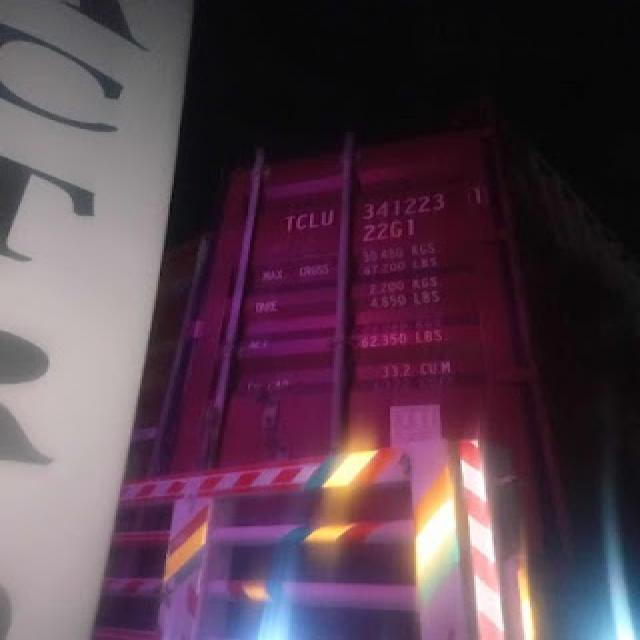ISO: (368, 218, 423, 244)
container_number: (280, 170, 494, 232)
